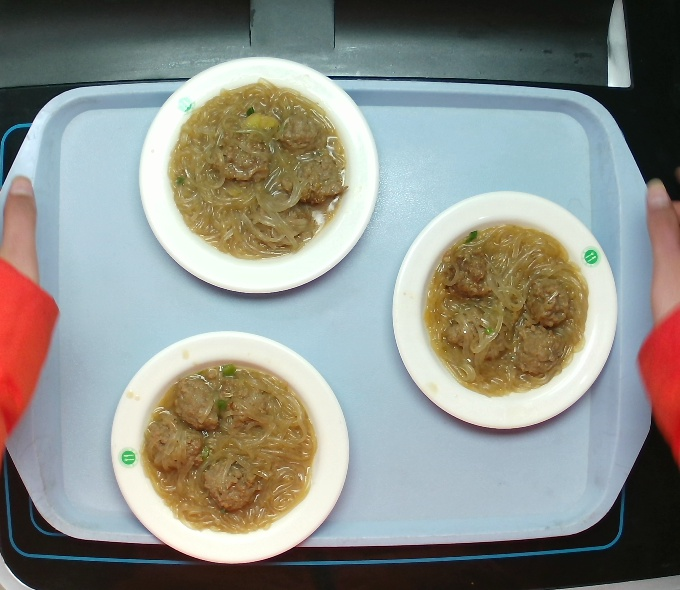wcq-FenSiNiuRouWan: (161, 65, 356, 278), (132, 348, 329, 543), (417, 213, 596, 404)
